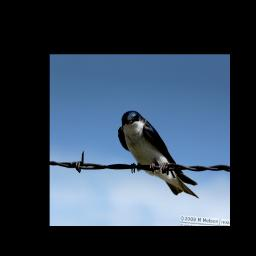Swallow: (114, 109, 203, 198)
